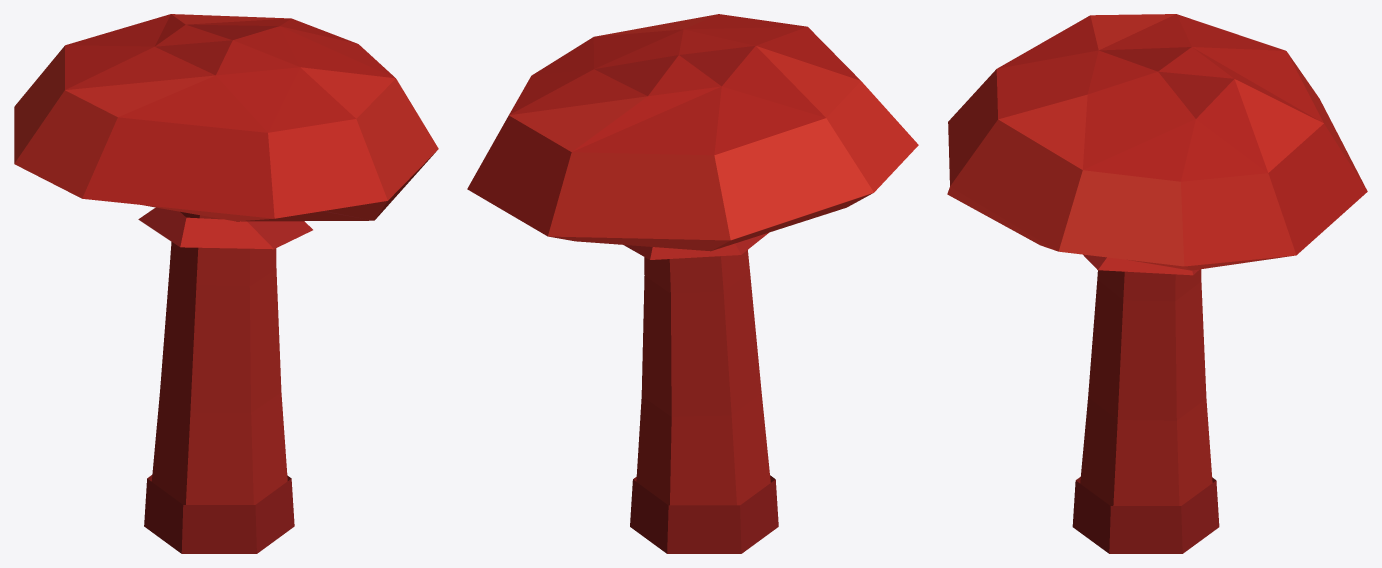
File: mushroom_red1.fbx
3 renders of one model, left to right at view 1: azimuth 30°, elevation 25°; view 2: azimuth 150°, elevation 25°; view 3: azimuth 270°, elevation 25°, orthographic. The views are drawn at different scales.
Parts seen in each view (by area): view 1: mushroom_red1; view 2: mushroom_red1; view 3: mushroom_red1.
Part boxes in pixels (x1,y1,x2,y2): mushroom_red1: (14,14,438,553); mushroom_red1: (467,14,918,553); mushroom_red1: (947,14,1367,553).
Size of the model in its own units: 21.62 by 26.03 by 21.3.
